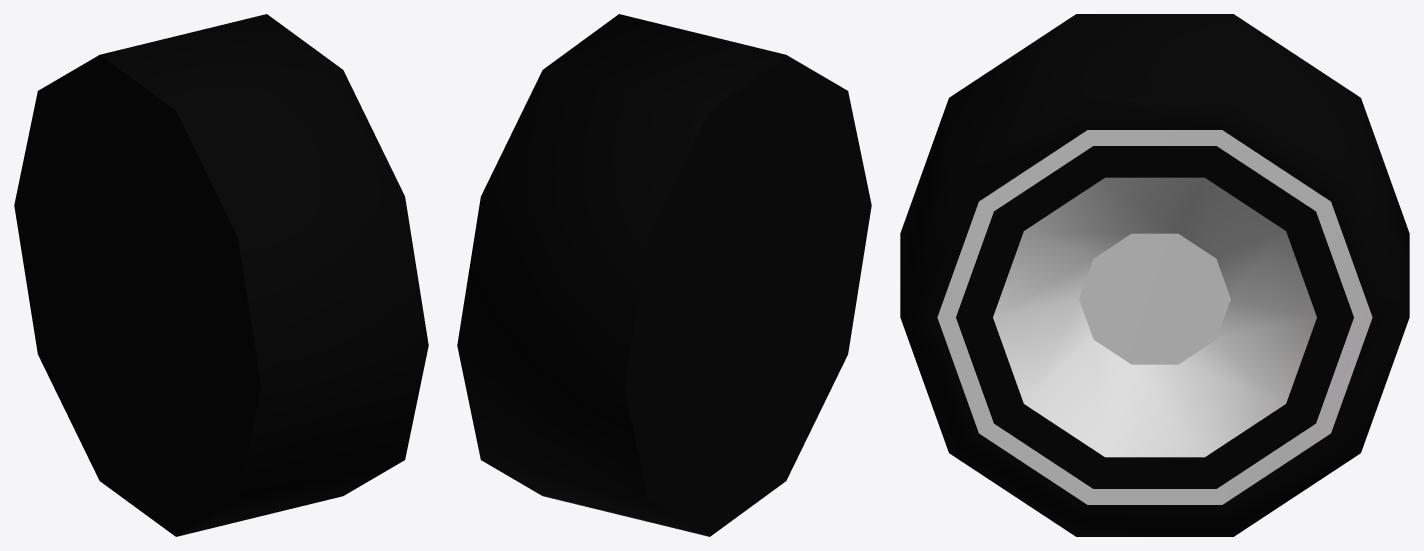
File: Whell_4.fbx
3 renders of one model, left to right at view 1: azimuth 30°, elevation 25°; view 2: azimuth 150°, elevation 25°; view 3: azimuth 270°, elevation 25°, orthographic. The views are drawn at different scales.
Visible parts, largest first — view 1: Whell_4; view 2: Whell_4; view 3: Whell_4.
Part boxes in pixels (x1,y1,x2,y2): Whell_4: (14,14,428,536); Whell_4: (457,14,871,536); Whell_4: (900,14,1409,536).
Bounding box in the file's own units: 29.43 × 71.68 × 75.37.
